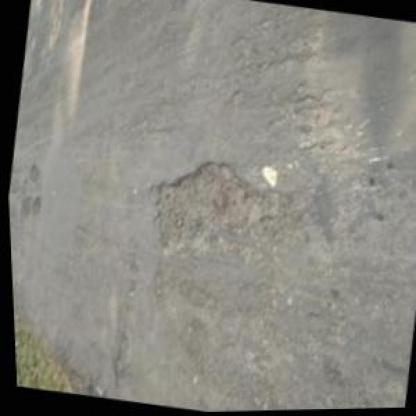pothole: (137, 148, 279, 269), (24, 161, 43, 183), (15, 193, 31, 216), (29, 193, 40, 215)
